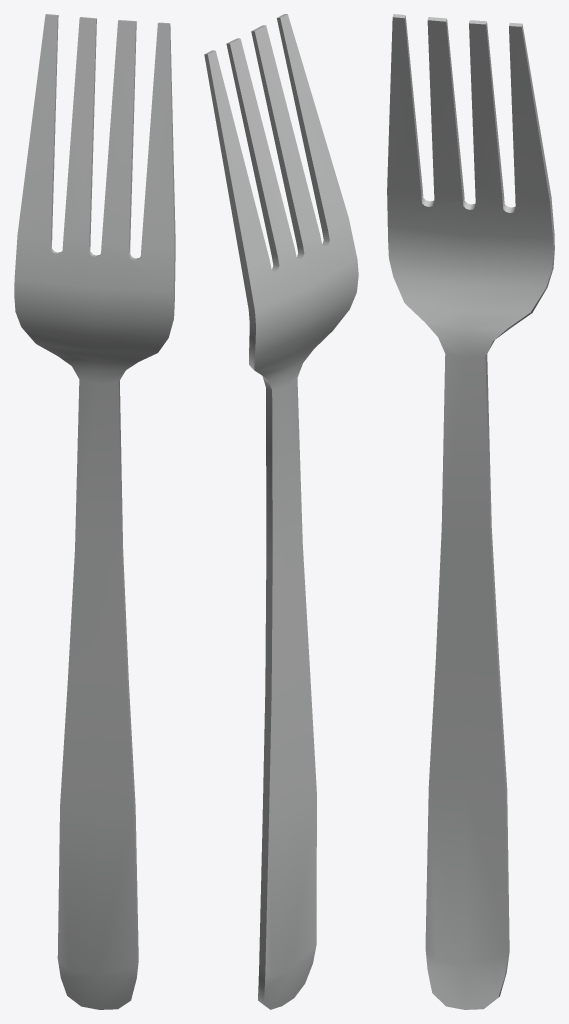
The model's file is CutleryPickaxe.glb.
3 views of the same model, side by side, from view 1: azimuth 90°, elevation 25°; view 2: azimuth 150°, elevation 25°; view 3: azimuth 270°, elevation 25° (orthographic). The views are drawn at different scales.
Parts seen in each view (by area): view 1: Table Fork; view 2: Table Fork; view 3: Table Fork.
Boxes of the visible parts, x1,y1,x2,y2 form: Table Fork: [14, 14, 175, 1009]; Table Fork: [204, 14, 358, 1009]; Table Fork: [387, 14, 554, 1009].
Bounding box in the file's own units: 0.0971 × 0.9704 × 0.1463.
Materials: 1 (1 with a texture image).
